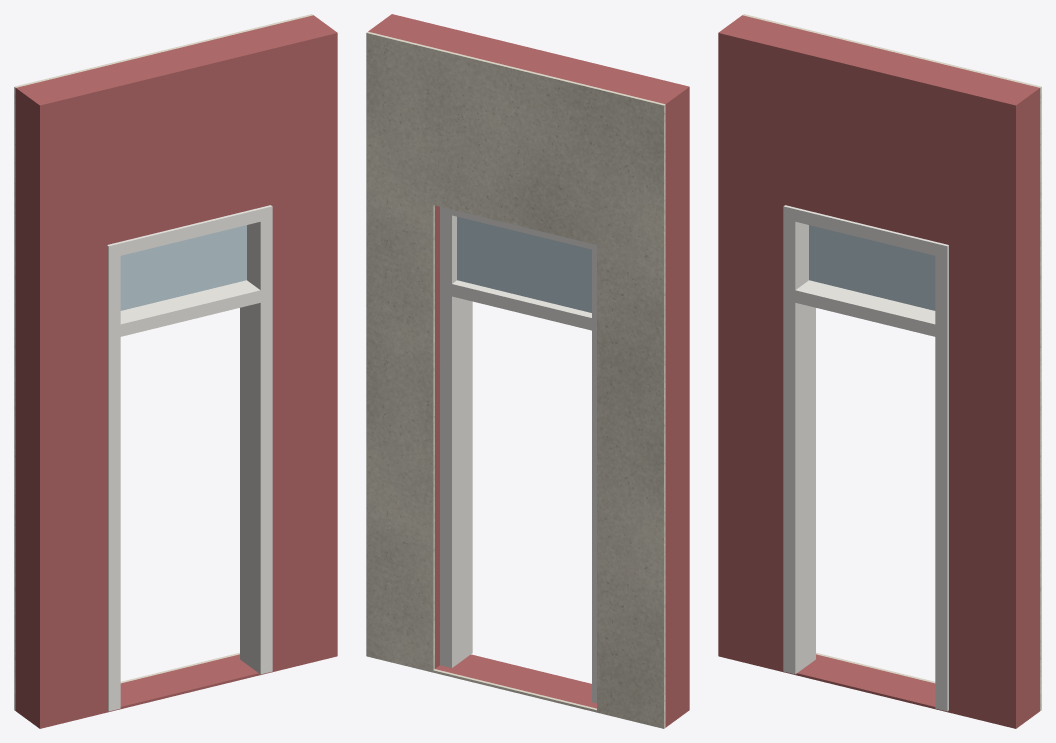
The model's file is shopfront_door.glb.
3 renders of one model, left to right at view 1: azimuth 30°, elevation 25°; view 2: azimuth 150°, elevation 25°; view 3: azimuth 330°, elevation 25°, orthographic.
Parts seen in each view (by area): view 1: shopfront_door_shop_paint, shopfront_door_frame, shopfront_door_glass, shopfront_door_plaster; view 2: shopfront_door_plaster, shopfront_door_shop_paint, shopfront_door_frame, shopfront_door_glass; view 3: shopfront_door_shop_paint, shopfront_door_frame, shopfront_door_glass, shopfront_door_plaster.
Part boxes in pixels (x1,y1,x2,y2): shopfront_door_shop_paint: (16,15,337,728); shopfront_door_frame: (107,205,272,711); shopfront_door_glass: (120,225,246,310); shopfront_door_plaster: (14,14,313,710); shopfront_door_plaster: (366,31,665,728); shopfront_door_shop_paint: (368,14,689,727); shopfront_door_frame: (440,207,596,703); shopfront_door_glass: (457,216,591,312); shopfront_door_shop_paint: (718,15,1039,728); shopfront_door_frame: (783,205,948,711); shopfront_door_glass: (809,225,935,310); shopfront_door_plaster: (742,14,1041,710).
Size of the model in its own units: 2 by 4 by 0.32.
4 materials, 1 textured.
